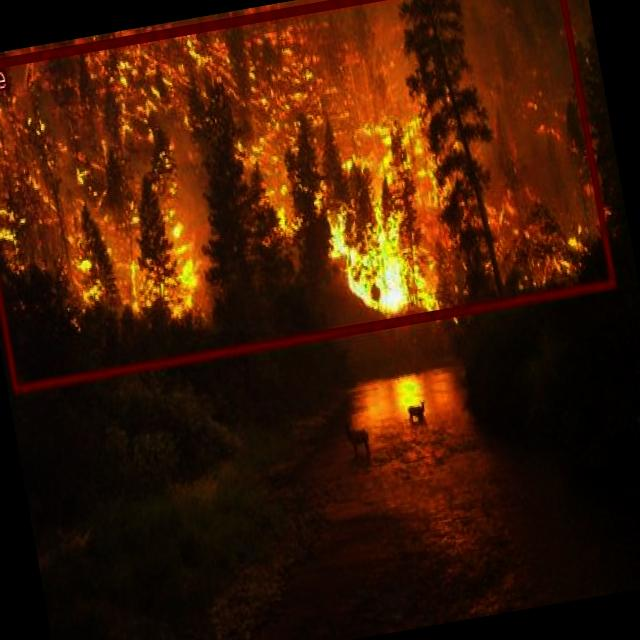fire: (0, 0, 614, 391)
